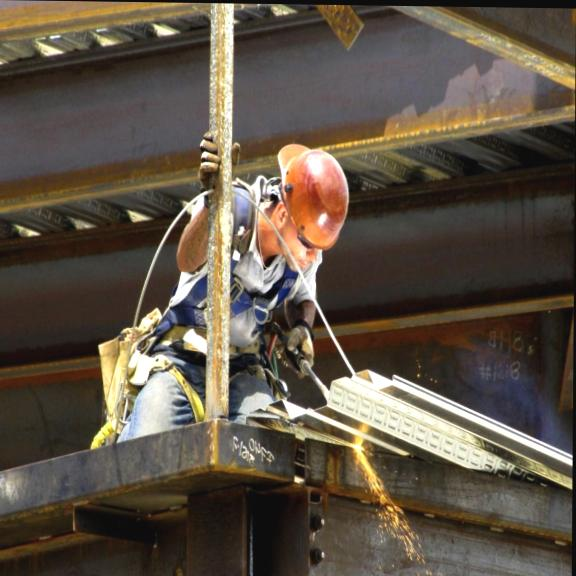no_safety_vest: (171, 176, 324, 334)
